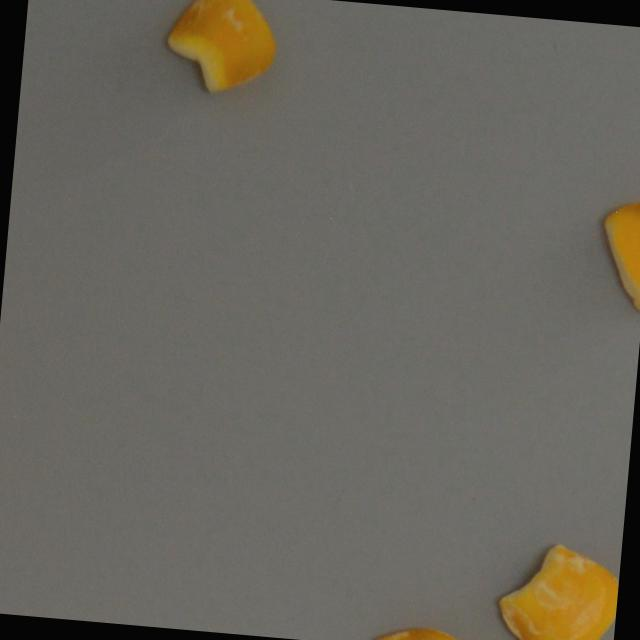dañado: (155, 0, 282, 101), (588, 189, 640, 316), (365, 620, 480, 640)
pelicula: (487, 536, 621, 640)
